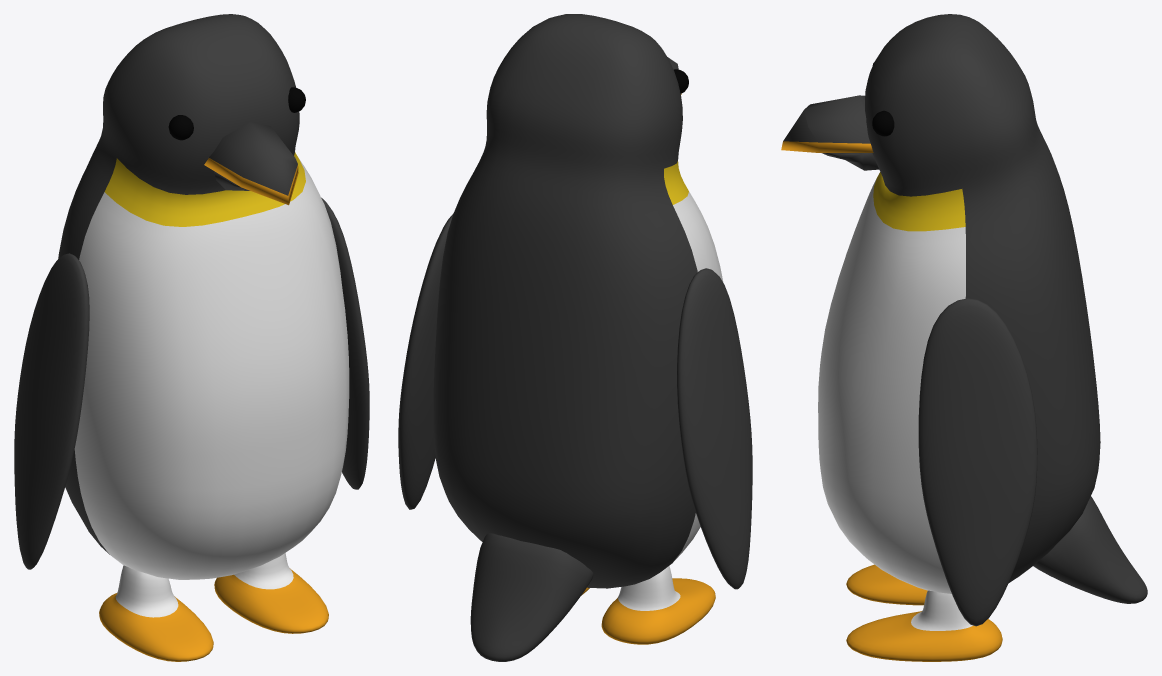
The model's file is BigPenguin.glb.
The picture shows the model from 3 angles, left to right: view 1: azimuth 30°, elevation 25°; view 2: azimuth 150°, elevation 25°; view 3: azimuth 270°, elevation 25°; orthographic projection.
Visible parts, largest first — view 1: 立方体, 立方体.001, 立方体.003, くちばしうえ, 球; view 2: 立方体, 立方体.001, 立方体.002, 立方体.003; view 3: 立方体, 立方体.001, 立方体.003, 立方体.002, くちばしうえ, くちばしした.
Part boxes in pixels (bbox=[...]): 立方体: bbox=[58, 14, 349, 579]; 立方体.001: bbox=[14, 197, 369, 569]; 立方体.003: bbox=[99, 553, 328, 661]; くちばしうえ: bbox=[204, 122, 298, 205]; 球: bbox=[168, 87, 305, 140]; 立方体: bbox=[433, 14, 723, 588]; 立方体.001: bbox=[398, 213, 752, 589]; 立方体.002: bbox=[470, 533, 593, 661]; 立方体.003: bbox=[581, 566, 715, 644]; 立方体: bbox=[818, 14, 1100, 593]; 立方体.001: bbox=[918, 298, 1037, 626]; 立方体.003: bbox=[846, 564, 1002, 661]; 立方体.002: bbox=[1033, 496, 1147, 603]; くちばしうえ: bbox=[781, 95, 873, 152]; くちばしした: bbox=[822, 153, 878, 170].
Size of the model in its own units: 1.12 by 1.89 by 1.06.
